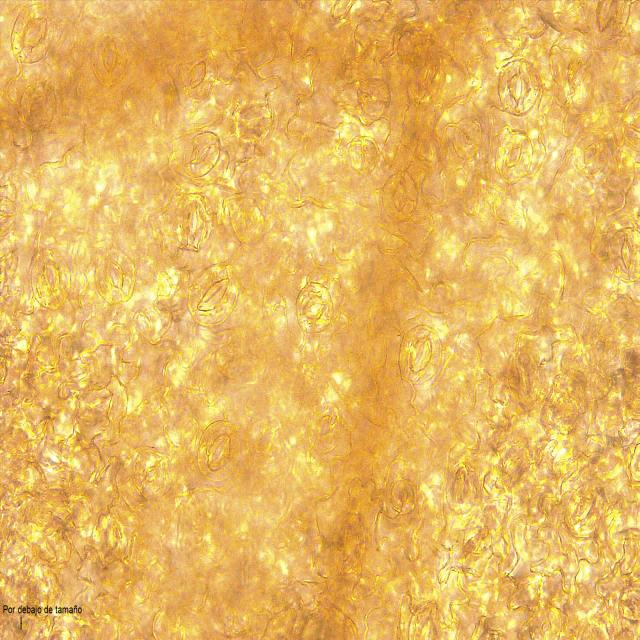Stomata: (188, 262, 240, 328), (10, 3, 56, 66), (196, 418, 241, 482), (398, 323, 443, 385), (30, 247, 71, 310), (90, 30, 132, 90), (174, 191, 215, 252), (498, 58, 540, 116), (94, 248, 136, 304), (563, 482, 605, 538), (494, 130, 533, 185), (180, 47, 218, 103), (295, 282, 334, 335), (18, 81, 58, 132), (132, 449, 170, 501), (382, 170, 419, 223), (184, 129, 223, 178), (306, 404, 342, 454), (583, 0, 630, 38), (446, 460, 479, 514), (609, 226, 640, 283), (231, 200, 267, 245), (357, 76, 391, 118), (575, 132, 607, 176), (237, 104, 273, 142), (452, 118, 483, 159), (349, 135, 379, 174), (622, 97, 640, 152), (388, 479, 416, 514)
